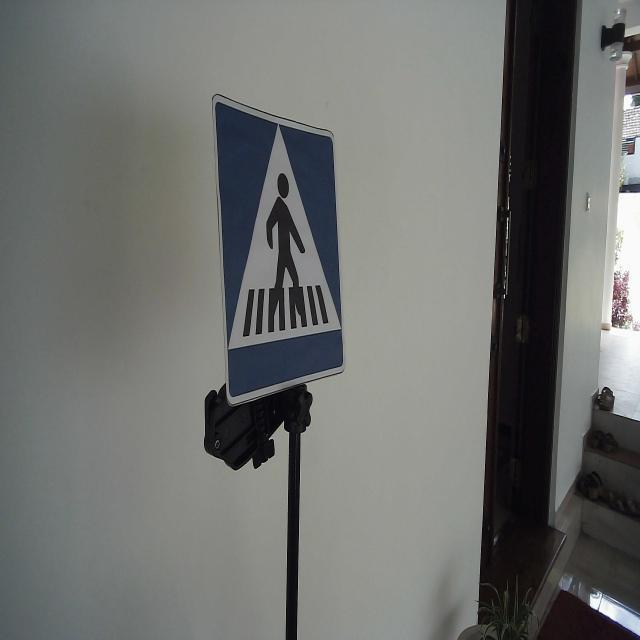crosswalk_sign: (210, 90, 347, 408)
